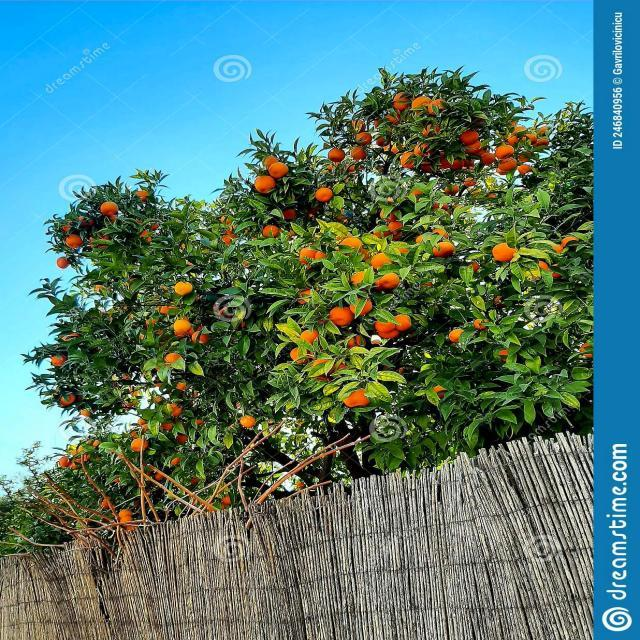Jeruk Sudah Matang: (491, 242, 520, 264), (328, 305, 354, 327), (370, 252, 394, 271), (379, 271, 402, 290), (268, 161, 290, 179), (173, 280, 196, 297), (314, 186, 335, 202), (238, 414, 256, 428)
